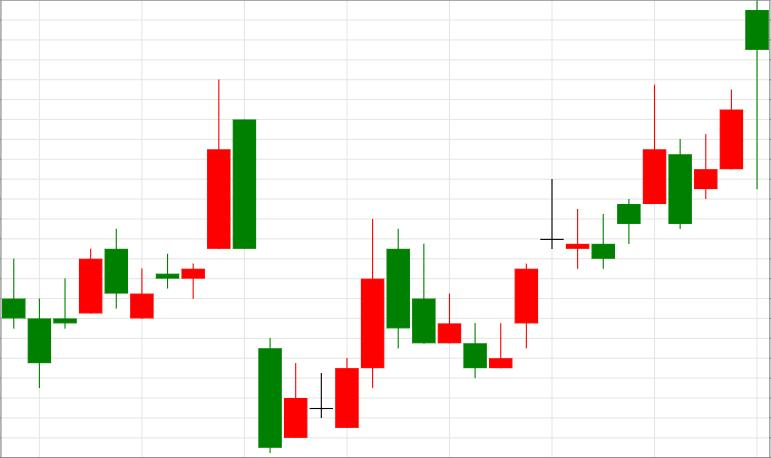hanging_man_fall: (592, 0, 769, 268)
